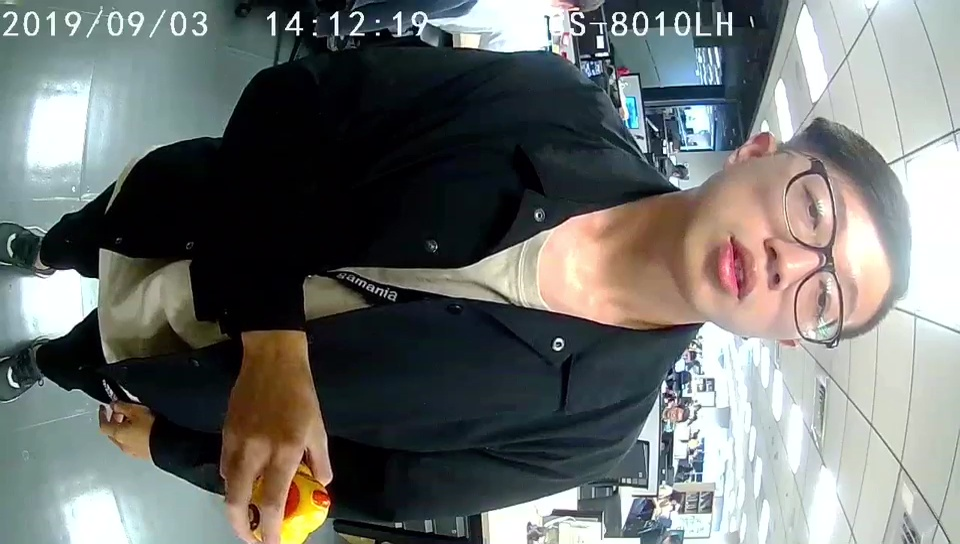car: (279, 466, 332, 544)
